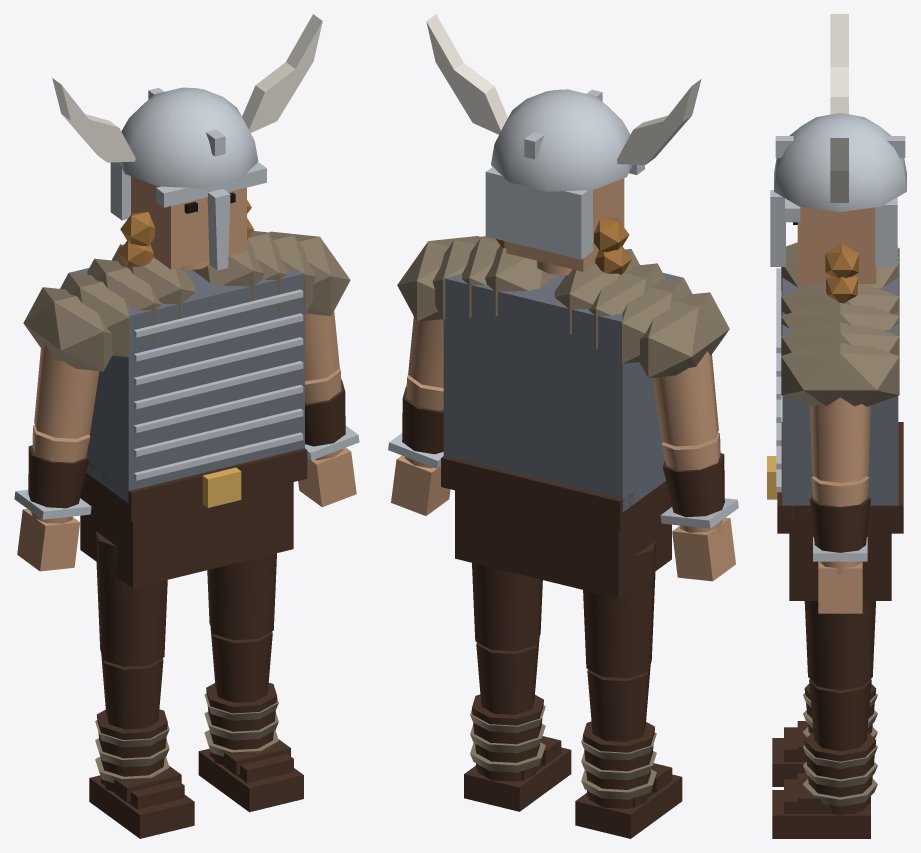
The model's file is viking-body.glb.
The picture shows the model from 3 angles, left to right: view 1: azimuth 30°, elevation 25°; view 2: azimuth 150°, elevation 25°; view 3: azimuth 270°, elevation 25°; orthographic projection. The views are drawn at different scales.
Parts seen in each view (by area): view 1: MailCoat, Tunic, HelmetCrown, Thigh-1, Belt, Face, Thigh1, FurCollar-13, UpperArm-1, Shin-1, Shin1, Horn1 (+40 smaller); view 2: MailCoat, Tunic, HelmetCrown, HelmetBack, Belt, Thigh-1, Thigh1, FurCollar-13, UpperArm-1, Shin-1, Shin1, Horn1 (+28 smaller); view 3: HelmetCrown, MailCoat, FurCollar13, Thigh1, Face, UpperArm1, Tunic, Shin1, Sandal1, Belt, Bracer1, Boot1 (+26 smaller).
Part boxes in pixels (left/top/right/bottom): MailCoat: left=69, top=268, right=304, bottom=503; Tunic: left=80, top=482, right=293, bottom=588; HelmetCrown: left=119, top=87, right=258, bottom=188; Thigh-1: left=96, top=531, right=167, bottom=666; Belt: left=83, top=448, right=307, bottom=521; Face: left=131, top=176, right=246, bottom=269; Thigh1: left=207, top=553, right=276, bottom=640; FurCollar-13: left=23, top=287, right=113, bottom=371; UpperArm-1: left=34, top=345, right=99, bottom=438; Shin-1: left=101, top=654, right=163, bottom=729; Shin1: left=210, top=627, right=272, bottom=702; Horn1: left=242, top=14, right=322, bottom=132; MailCoat: left=443, top=273, right=682, bottom=512; Tunic: left=455, top=490, right=671, bottom=598; HelmetCrown: left=491, top=89, right=632, bottom=191; HelmetBack: left=485, top=167, right=592, bottom=259; Belt: left=441, top=456, right=669, bottom=530; Thigh-1: left=583, top=540, right=655, bottom=678; Thigh1: left=472, top=563, right=542, bottom=651; FurCollar-13: left=638, top=292, right=729, bottom=378; UpperArm-1: left=652, top=351, right=718, bottom=446; Shin-1: left=587, top=665, right=650, bottom=741; Shin1: left=476, top=638, right=539, bottom=714; Horn1: left=426, top=14, right=507, bottom=134; HelmetCrown: left=774, top=113, right=906, bottom=211; MailCoat: left=782, top=252, right=898, bottom=515; FurCollar13: left=781, top=342, right=899, bottom=406; Thigh1: left=804, top=601, right=875, bottom=690; Face: left=797, top=206, right=876, bottom=283; UpperArm1: left=810, top=397, right=870, bottom=482; Tunic: left=789, top=533, right=891, bottom=600; Shin1: left=809, top=679, right=871, bottom=751; Sandal1: left=772, top=790, right=870, bottom=838; Belt: left=777, top=422, right=903, bottom=533; Bracer1: left=809, top=496, right=870, bottom=552; Boot1: left=804, top=731, right=876, bottom=815.
Size of the model in its own units: 1.04 by 2.34 by 0.41.
